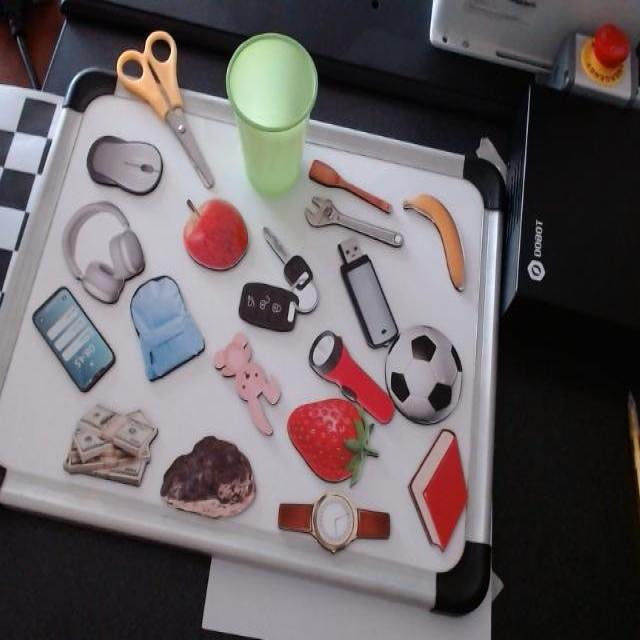Other Objects: (116, 29, 214, 189), (224, 31, 318, 197), (226, 225, 328, 360), (373, 307, 474, 443), (303, 321, 399, 444), (120, 262, 206, 383), (401, 176, 480, 297), (31, 285, 115, 392), (61, 199, 145, 304), (330, 230, 400, 356), (159, 433, 256, 517), (62, 403, 157, 487), (276, 489, 390, 553), (212, 331, 281, 436), (304, 195, 403, 247), (307, 157, 392, 216), (182, 197, 248, 271), (87, 134, 164, 195)
